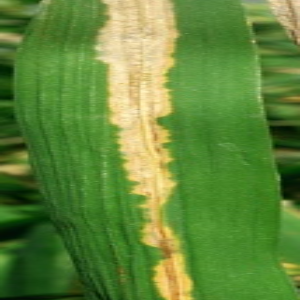Bacterial_Blight: (24, 1, 285, 300)
